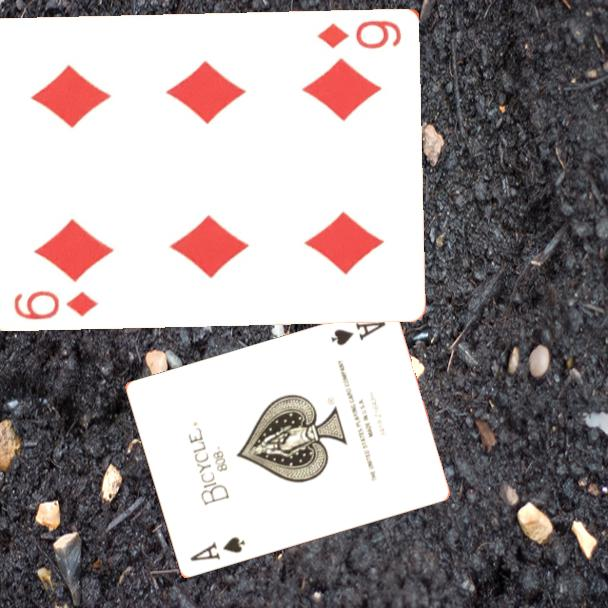d06: (10, 286, 102, 322), (314, 16, 404, 51)
s01: (186, 534, 248, 565), (327, 318, 388, 349)
